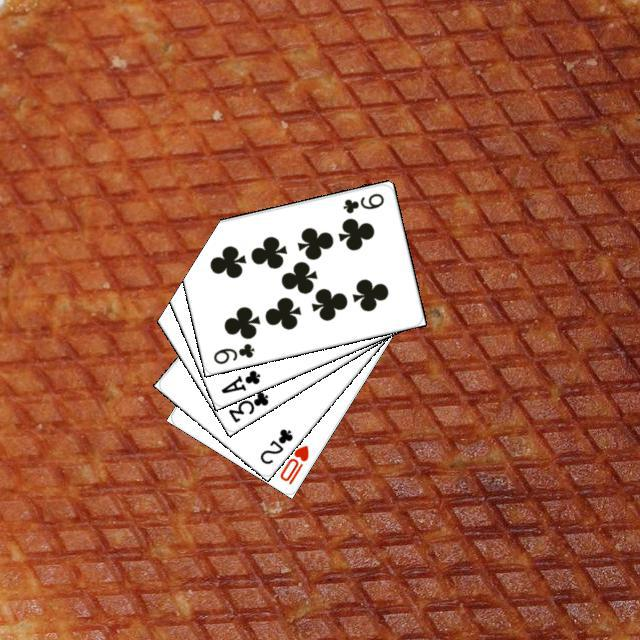10h: (275, 440, 311, 486)
2c: (255, 424, 295, 466)
3c: (223, 387, 270, 425)
9c: (208, 338, 256, 366), (338, 188, 386, 215)
Ac: (216, 365, 262, 395)
